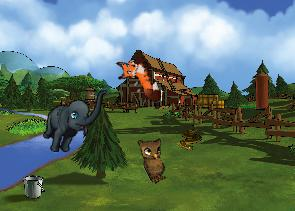elephant: (40, 81, 107, 159)
fox: (112, 50, 164, 111)
owl: (132, 131, 178, 185)
